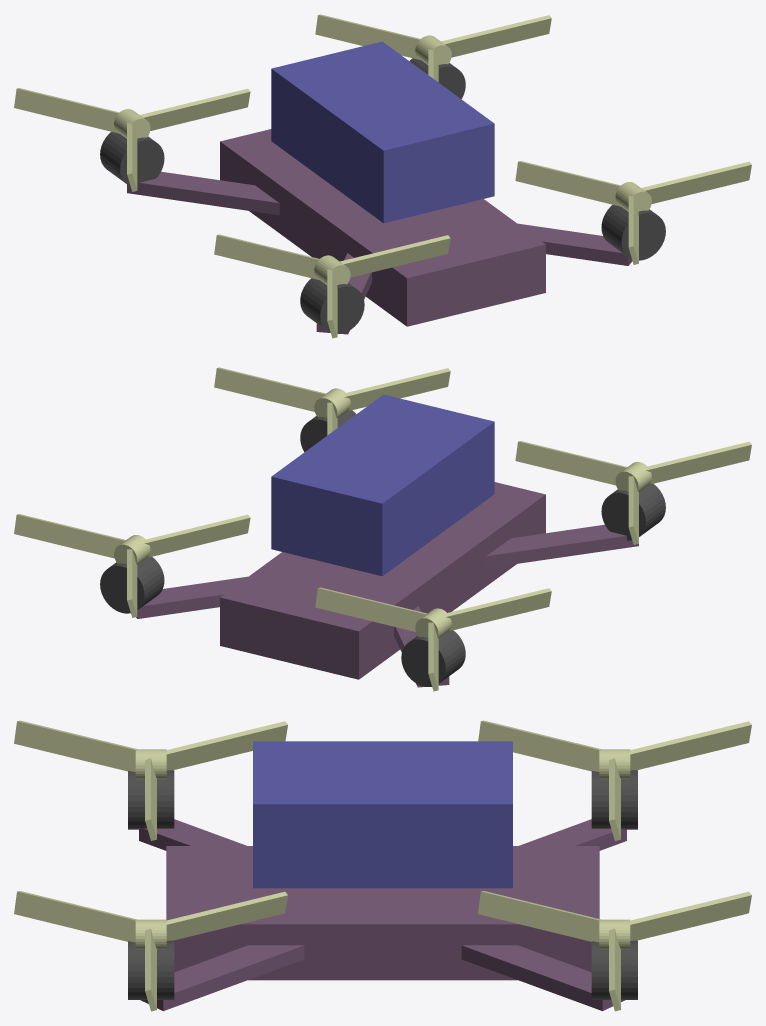
Rendered from Din Drones OZR-5X.glb.
3 views of the same model, one above another, from view 1: azimuth 30°, elevation 25°; view 2: azimuth 150°, elevation 25°; view 3: azimuth 270°, elevation 25° (orthographic). The views are drawn at different scales.
Visible parts, largest first — view 1: battery, frame_body, prop_2, prop_0, prop_3, prop_1, arm_3, arm_0, motor_2, motor_0, motor_3, motor_1; view 2: battery, frame_body, prop_3, prop_1, prop_2, prop_0, arm_2, arm_1, motor_3, motor_1, motor_2, motor_0; view 3: battery, frame_body, prop_1, prop_0, prop_2, prop_3, arm_1, arm_0, motor_0, motor_1, motor_2, motor_3 (+2 smaller).
Part boxes in pixels (x1,y1,x2,y2): battery: (271,41,494,223); frame_body: (220,129,545,326); prop_2: (214,234,450,338); prop_0: (515,161,751,264); prop_3: (14,88,250,191); prop_1: (315,14,551,82); arm_3: (127,171,279,215); arm_0: (518,223,632,265); motor_2: (300,278,364,333); motor_0: (601,205,665,260); motor_3: (100,132,164,187); motor_1: (409,58,465,98); battery: (271,394,494,576); frame_body: (220,482,545,679); prop_3: (315,587,551,691); prop_1: (14,514,250,617); prop_2: (515,441,751,544); prop_0: (214,367,450,435); arm_2: (486,524,638,568); arm_1: (136,576,247,618); motor_3: (401,630,465,686); motor_1: (100,557,164,613); motor_2: (601,484,665,540); motor_0: (300,410,356,451); battery: (253,741,512,888); frame_body: (166,846,599,980); prop_1: (478,891,751,1011); prop_0: (14,891,287,1011); prop_2: (14,720,287,840); prop_3: (478,720,751,840); arm_1: (461,945,625,1011); arm_0: (140,945,304,1011); motor_0: (128,940,174,999); motor_1: (591,940,637,999); motor_2: (128,770,174,829); motor_3: (591,770,637,829).
Size of the model in its own units: 0.2069 by 0.06 by 0.2383.
